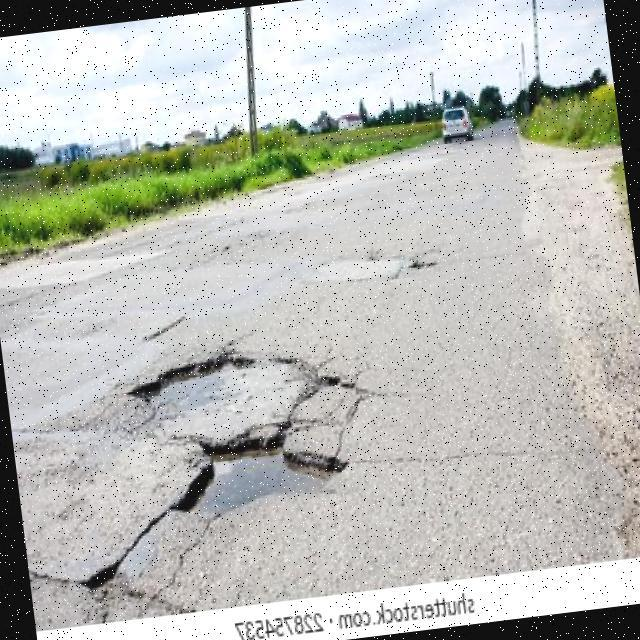Pothole: (164, 422, 350, 518), (128, 360, 255, 411)
